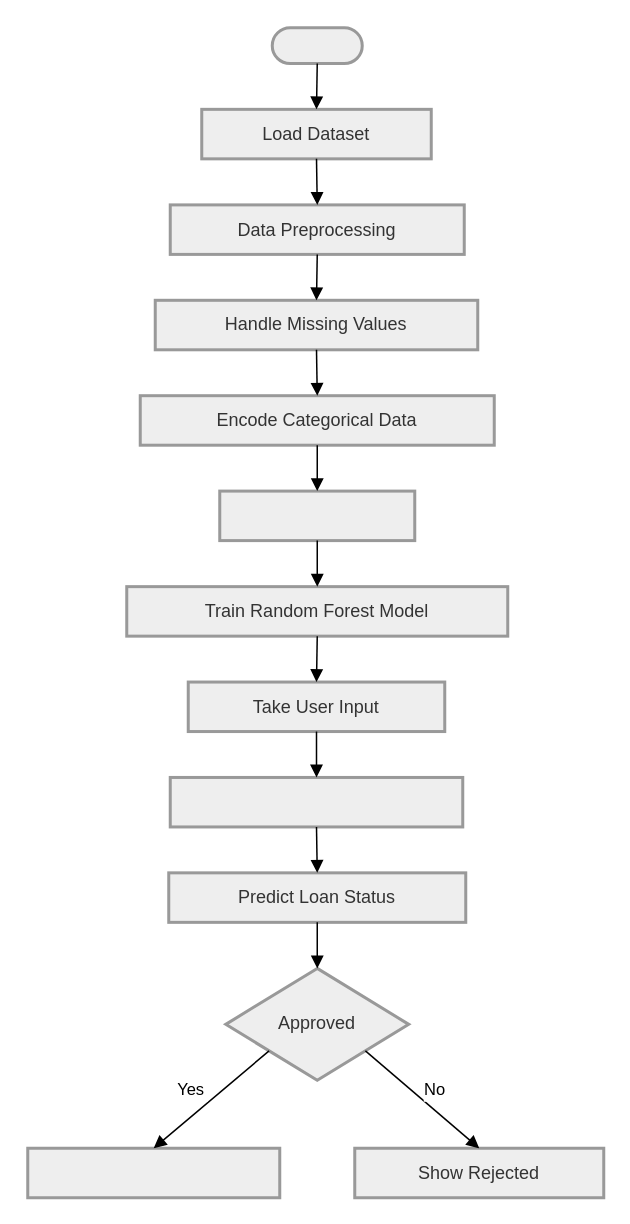
Some shapes in this 630 by 1224 pixel diagram are drawn without their labels. Here are the shapes that lost their labels. From the top down, the box of each, then its label:
(270, 26, 363, 64): Start
(218, 489, 416, 541): Split Data
(168, 775, 464, 828): Prepare Input Data
(26, 1146, 280, 1198): Show Approved
